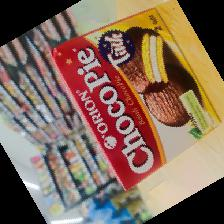Chocopie: (49, 1, 224, 193)
